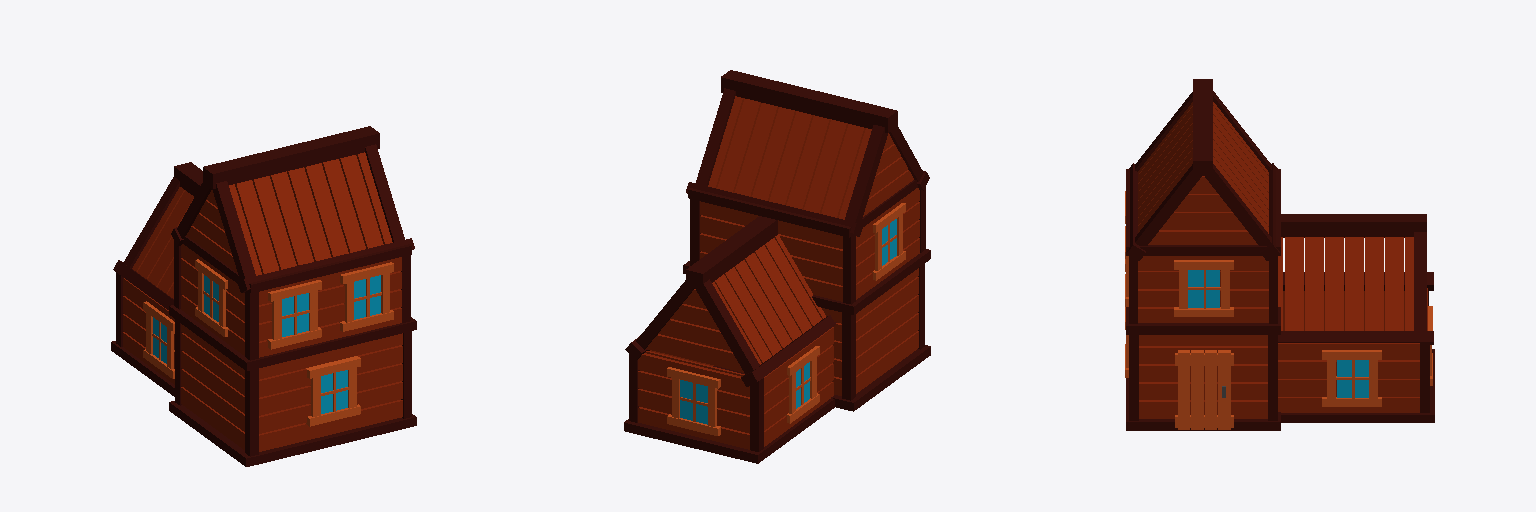
Rendered from casa.obj.
3 views of the same model, side by side, from view 1: azimuth 30°, elevation 25°; view 2: azimuth 150°, elevation 25°; view 3: azimuth 270°, elevation 25° (orthographic).
Parts seen in each view (by area): view 1: Wooden_Wall.006, Wooden_Wall.001, Wooden_Wall.004, Wooden_Wall.003, Wooden_Wall.015, Cube.022, Cube.020, Wooden_Wall.008, Cube.019, Wooden_Wall.014, Cube.049, Cube.050 (+12 smaller); view 2: Wooden_Wall.006, Wooden_Wall.015, Wooden_Wall.004, Wooden_Wall.011, Wooden_Wall.009, Cube.022, Wooden_Wall.014, Wooden_Wall.016, Wooden_Wall.008, Cube.034, Cube.001, Cube.049 (+8 smaller); view 3: Wooden_Wall.015, Wooden_Wall.006, Wooden_Wall, Wooden_Wall.012, Wooden_Wall.002, Cube.018, Wooden_Wall.007, Cube.034, Cube.049, Cube.024, Cube.003, Cube.022 (+8 smaller).
Boxes of the visible parts, box(x1,y1,x2,y2) form: Wooden_Wall.006: box(171, 144, 414, 292); Wooden_Wall.001: box(245, 333, 402, 456); Wooden_Wall.004: box(175, 319, 244, 449); Wooden_Wall.003: box(245, 257, 401, 360); Wooden_Wall.015: box(113, 177, 193, 309); Cube.022: box(203, 126, 379, 188); Cube.020: box(169, 401, 416, 466); Wooden_Wall.008: box(174, 241, 244, 355); Cube.019: box(169, 305, 416, 370); Wooden_Wall.014: box(116, 272, 174, 384); Cube.049: box(183, 236, 411, 293); Cube.050: box(306, 356, 360, 426); Wooden_Wall.006: box(686, 88, 929, 236); Wooden_Wall.015: box(625, 234, 836, 386); Wooden_Wall.004: box(842, 268, 918, 400); Wooden_Wall.011: box(629, 351, 749, 449); Wooden_Wall.009: box(690, 199, 842, 301); Cube.022: box(721, 70, 897, 132); Wooden_Wall.014: box(750, 327, 834, 451); Wooden_Wall.016: box(646, 289, 743, 372); Wooden_Wall.008: box(843, 188, 919, 304); Cube.034: box(686, 216, 777, 288); Cube.001: box(624, 398, 834, 463); Cube.049: box(688, 180, 917, 237); Wooden_Wall.015: box(1278, 232, 1433, 344); Wooden_Wall.006: box(1127, 91, 1279, 260); Wooden_Wall: box(1129, 335, 1267, 420); Wooden_Wall.012: box(1278, 343, 1419, 412); Wooden_Wall.002: box(1129, 256, 1268, 323); Cube.018: box(1175, 350, 1233, 429); Wooden_Wall.007: box(1148, 176, 1257, 244); Cube.034: box(1281, 214, 1426, 237); Cube.049: box(1126, 169, 1280, 255); Cube.024: box(1322, 350, 1381, 406); Cube.003: box(1174, 260, 1233, 316); Cube.022: box(1193, 79, 1212, 175).
Size of the model in its own units: 10.83 by 16.09 by 16.8.